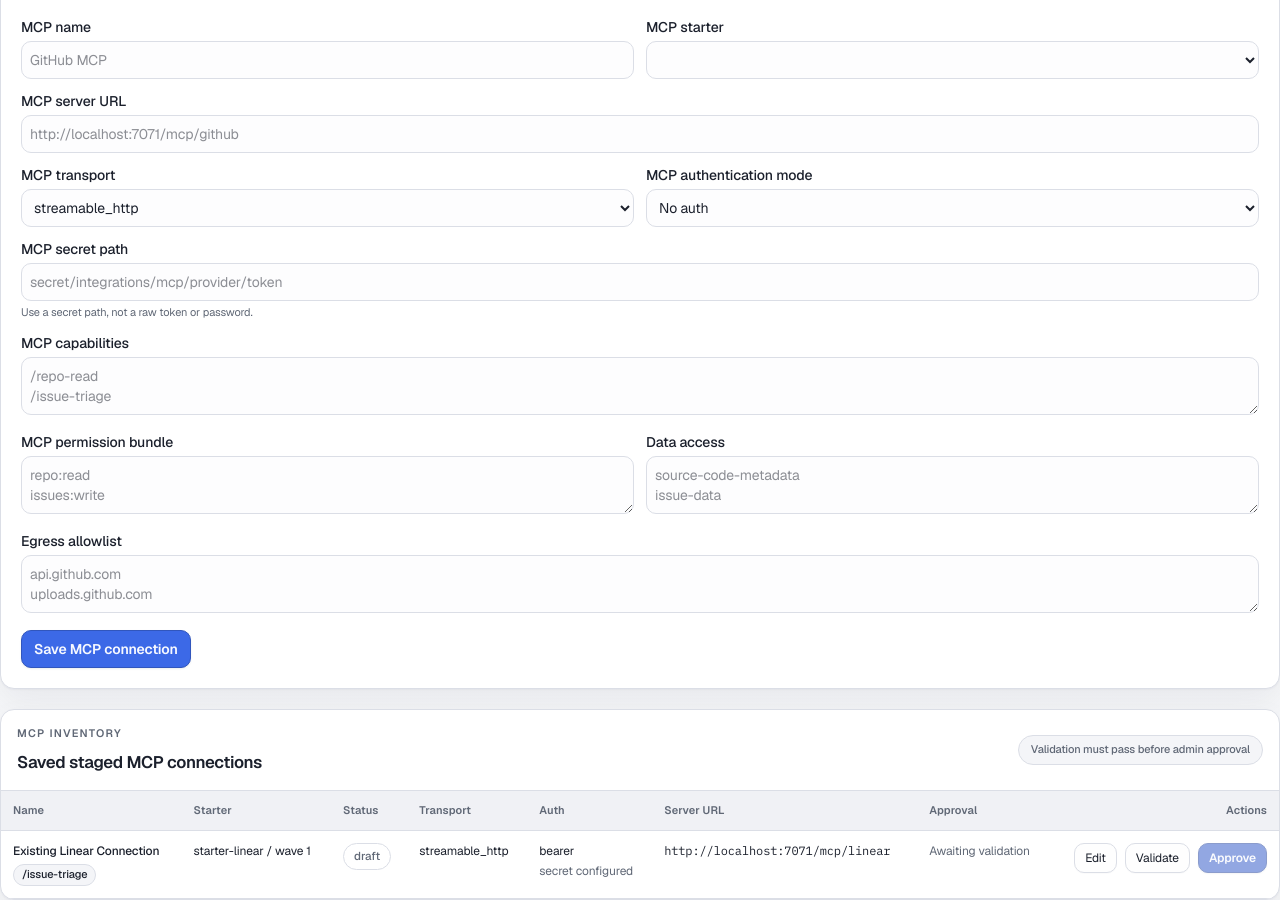
Test: McpConnectionsPanel › does not overwrite edit state when starter templates resolve after editing begins
(page scrolled)
Check: the text "Existing Linear Connection" is shown, box x1=13 y1=843 x2=170 y2=860
What coordinates should you click on to do the following:
click the button "Edit"
I would click on:
 (1095, 858)
Its box is x1=1074 y1=843 x2=1117 y2=873.
(page scrolled)
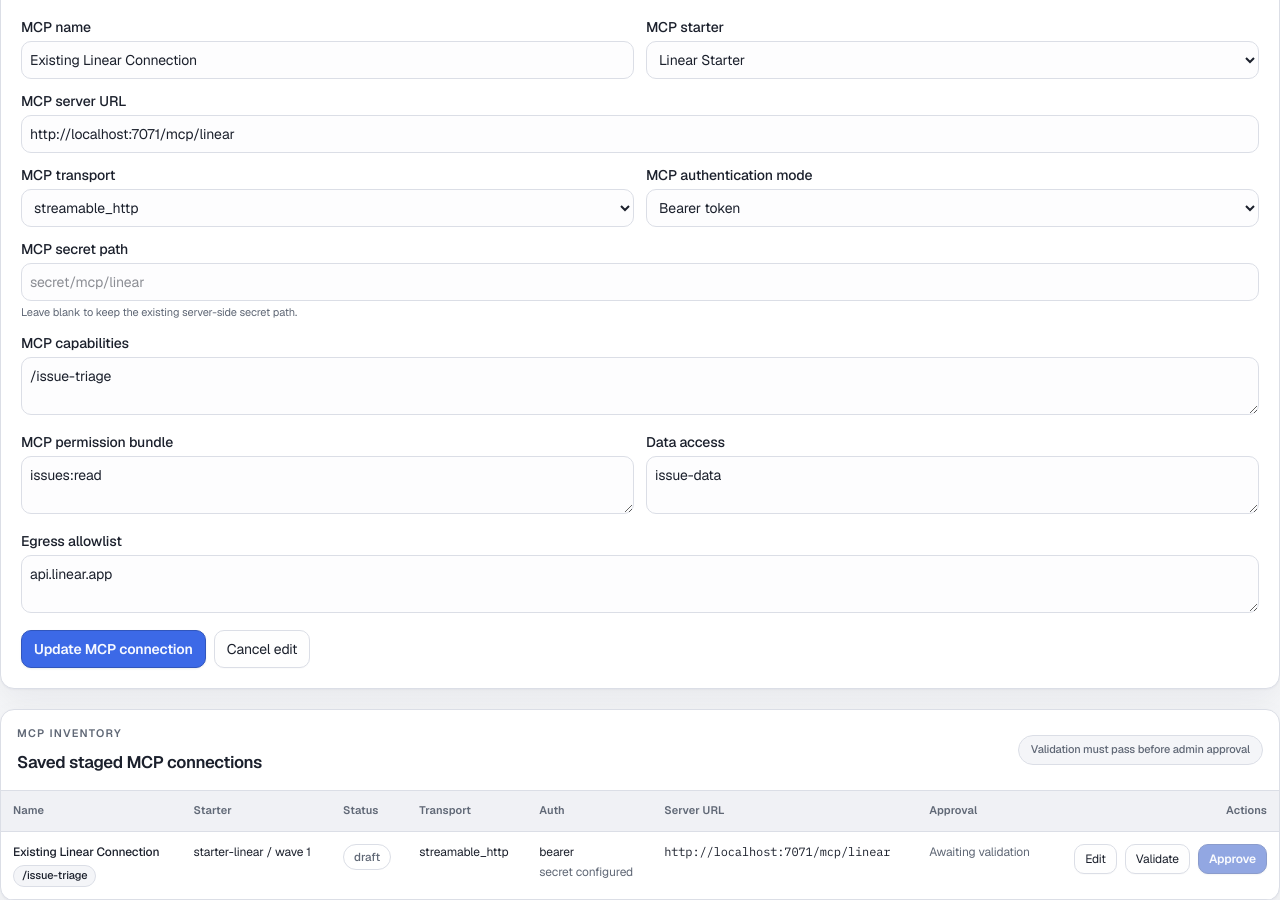
Check: the field labelled "MCP name" holds "Existing Linear Connection", box x1=21 y1=42 x2=634 y2=80
Check: the dropdown labelled "MCP starter" shows "Linear Starter", box x1=646 y1=42 x2=1259 y2=80
Check: the button "Cancel edit" is shown, box x1=214 y1=630 x2=310 y2=668
